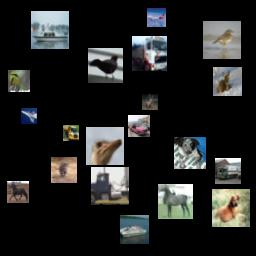airplane: (147, 8, 166, 27), (21, 108, 37, 124)
automobile: (128, 115, 150, 137)
bird: (86, 127, 124, 165), (203, 21, 241, 59), (88, 48, 123, 83), (8, 70, 30, 92)
cat: (51, 157, 77, 183)
deer: (213, 67, 242, 96), (142, 94, 158, 110)
dog: (212, 189, 250, 227), (174, 137, 206, 169)
ship: (31, 11, 69, 49), (120, 215, 149, 244)
truck: (91, 167, 129, 205), (132, 36, 167, 71), (215, 158, 241, 184), (63, 125, 79, 141)
